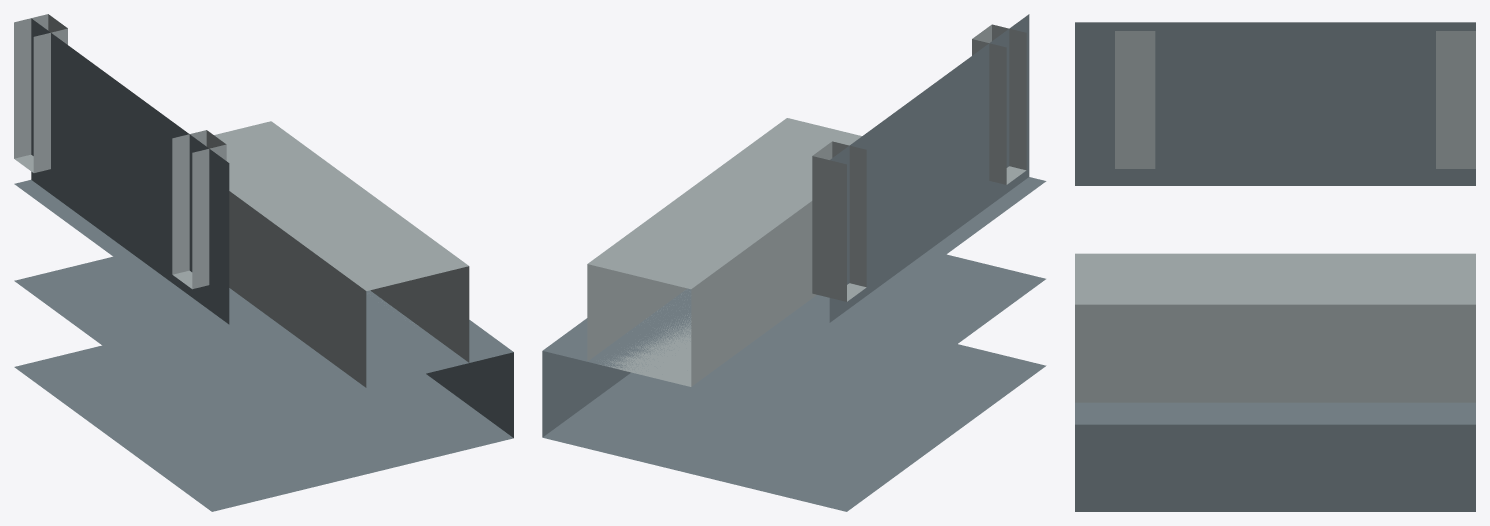
Rendered from cell_19.obj.
The picture shows the model from 3 angles, left to right: view 1: azimuth 30°, elevation 25°; view 2: azimuth 150°, elevation 25°; view 3: azimuth 270°, elevation 25°; orthographic projection.
Size of the model in its own units: 0.88 by 0.96 by 1.
